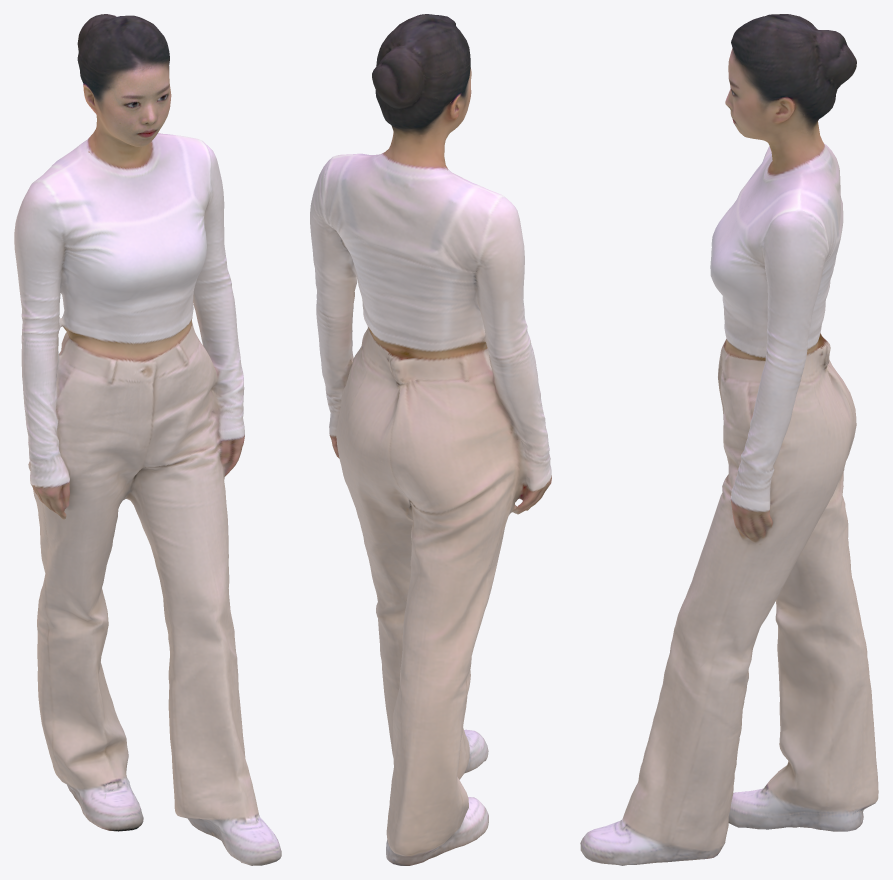
3 renders of one model, left to right at view 1: azimuth 30°, elevation 25°; view 2: azimuth 150°, elevation 25°; view 3: azimuth 270°, elevation 25°, orthographic. The views are drawn at different scales.
Parts seen in each view (by area): view 1: Frame_0005; view 2: Frame_0005; view 3: Frame_0005.
Part boxes in pixels (x1=…): Frame_0005: x1=14, y1=14, x2=281, y2=865; Frame_0005: x1=310, y1=14, x2=551, y2=865; Frame_0005: x1=580, y1=14, x2=878, y2=865.
Bounding box in the file's own units: 45.77 × 162 × 53.79.
Materials: 1 (1 with a texture image).
